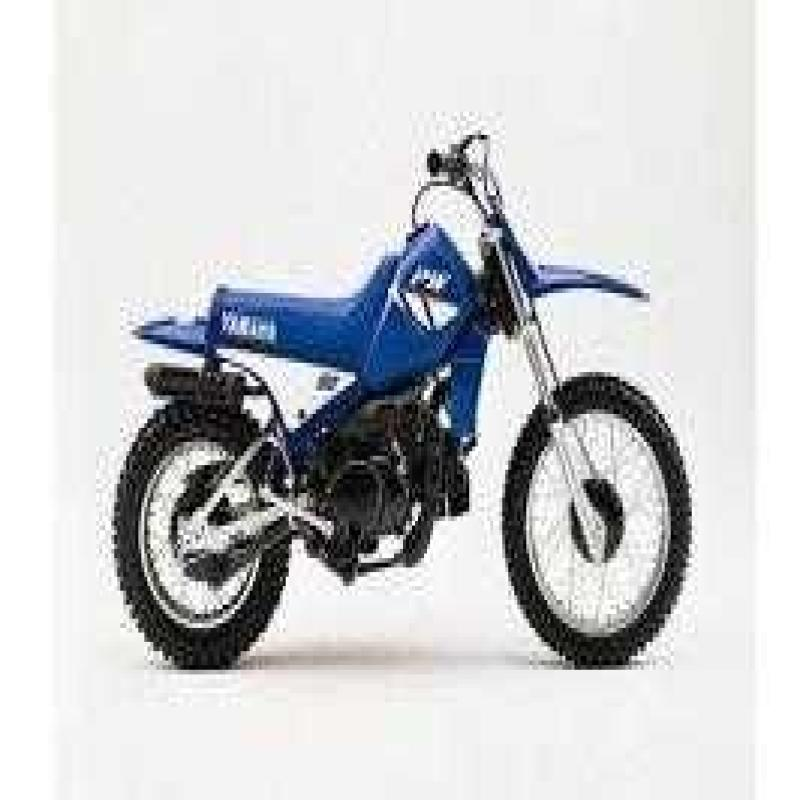bike: (56, 82, 709, 688)
